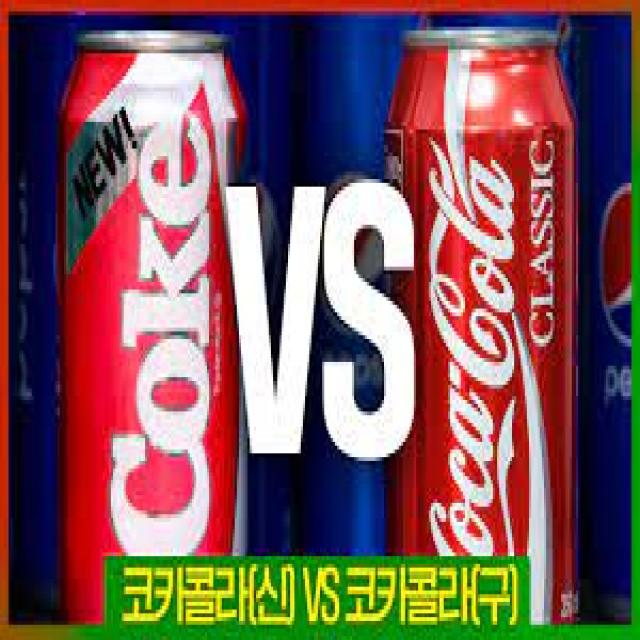Coca-Cola: (381, 20, 585, 640)
